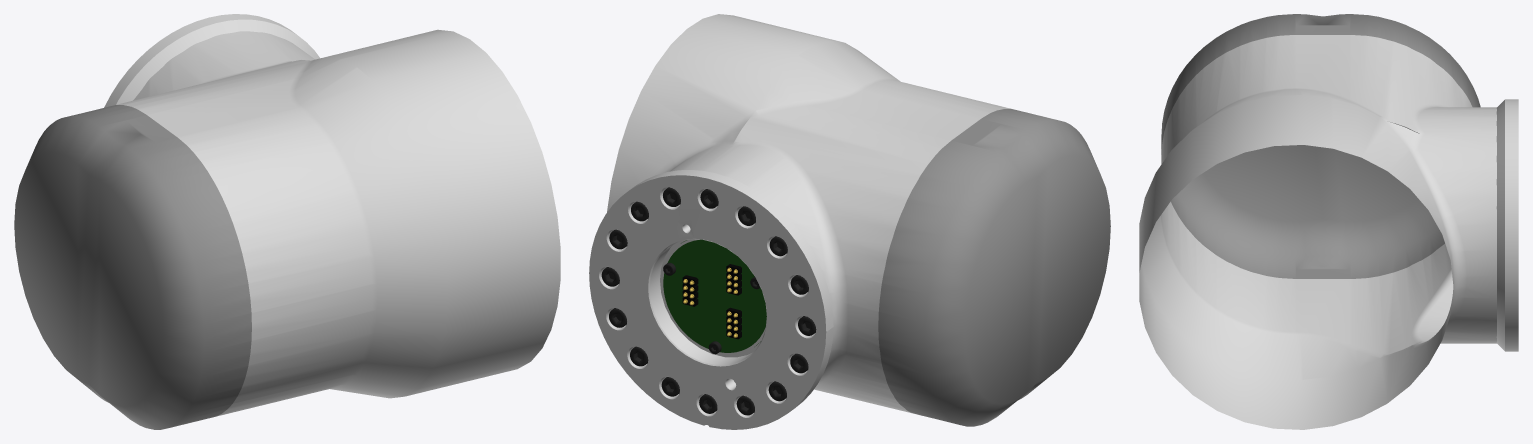
Rendered from D116-legacy-proximal.glb.
The picture shows the model from 3 angles, left to right: view 1: azimuth 30°, elevation 25°; view 2: azimuth 150°, elevation 25°; view 3: azimuth 270°, elevation 25°; orthographic projection. The views are drawn at different scales.
Parts seen in each view (by area): view 1: D116-legacy-proximal.001; view 2: D116-legacy-proximal.001; view 3: D116-legacy-proximal.001.
Part boxes in pixels (x1,y1,x2,y2): D116-legacy-proximal.001: (14,14,560,429); D116-legacy-proximal.001: (589,14,1110,429); D116-legacy-proximal.001: (1139,14,1518,429).
Bounding box in the file's own units: 0.142 × 0.1159 × 0.1397.
